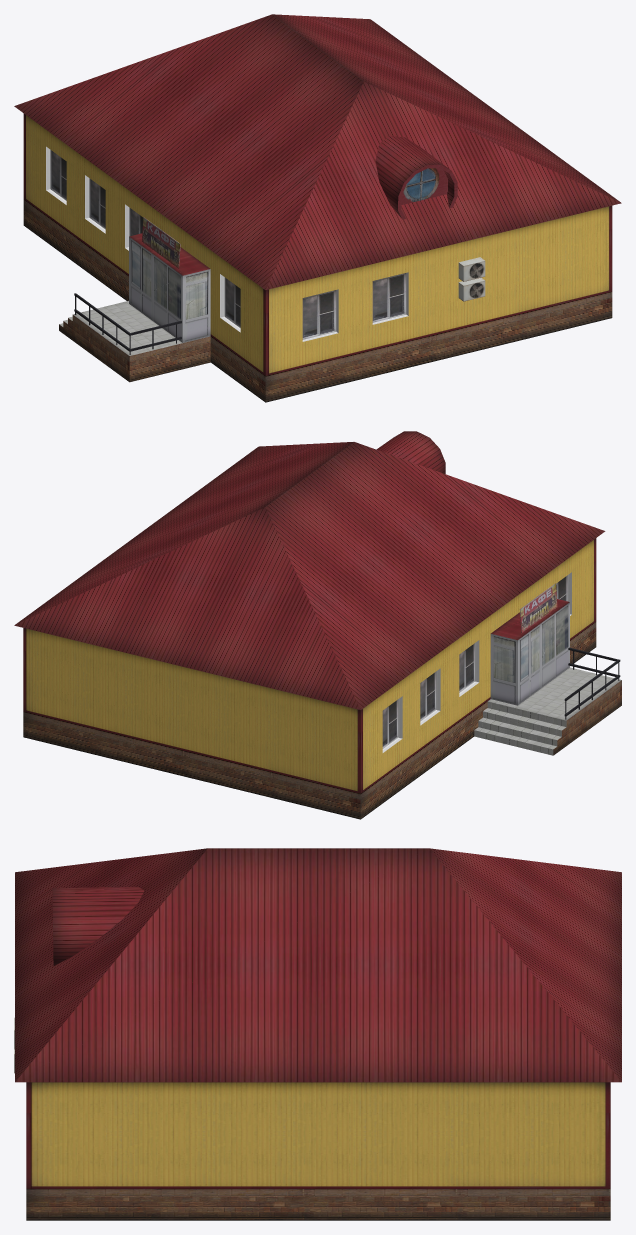
File: r402_abat2.FBX
The picture shows the model from 3 angles, top to bottom: view 1: azimuth 30°, elevation 25°; view 2: azimuth 150°, elevation 25°; view 3: azimuth 270°, elevation 25°; orthographic projection. The views are drawn at different scales.
Visible parts, largest first — view 1: r402_abat2; view 2: r402_abat2; view 3: r402_abat2.
Boxes of the visible parts, bbox=[...] form: r402_abat2: bbox=[14, 14, 621, 402]; r402_abat2: bbox=[14, 431, 621, 819]; r402_abat2: bbox=[14, 848, 621, 1220].
Bounding box in the file's own units: 1549 × 1560 × 765.
